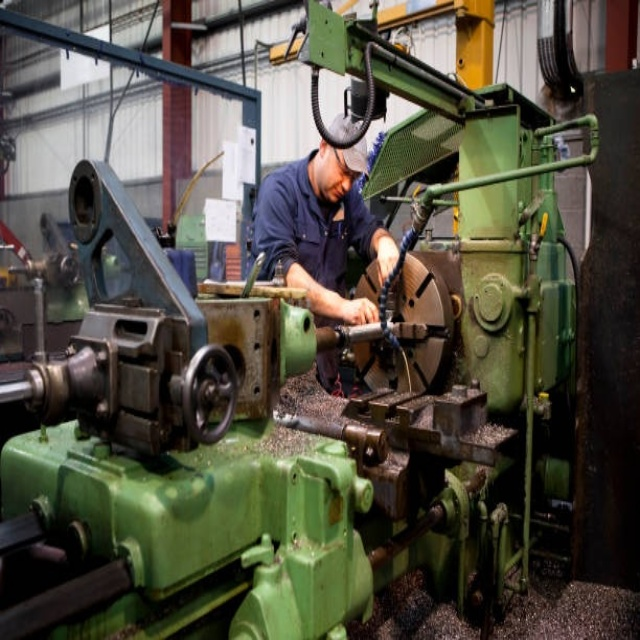Gafas: (332, 143, 363, 187)
Sin_guantes: (372, 234, 398, 283), (346, 295, 381, 328)
Sin_mascara: (323, 176, 346, 206)
